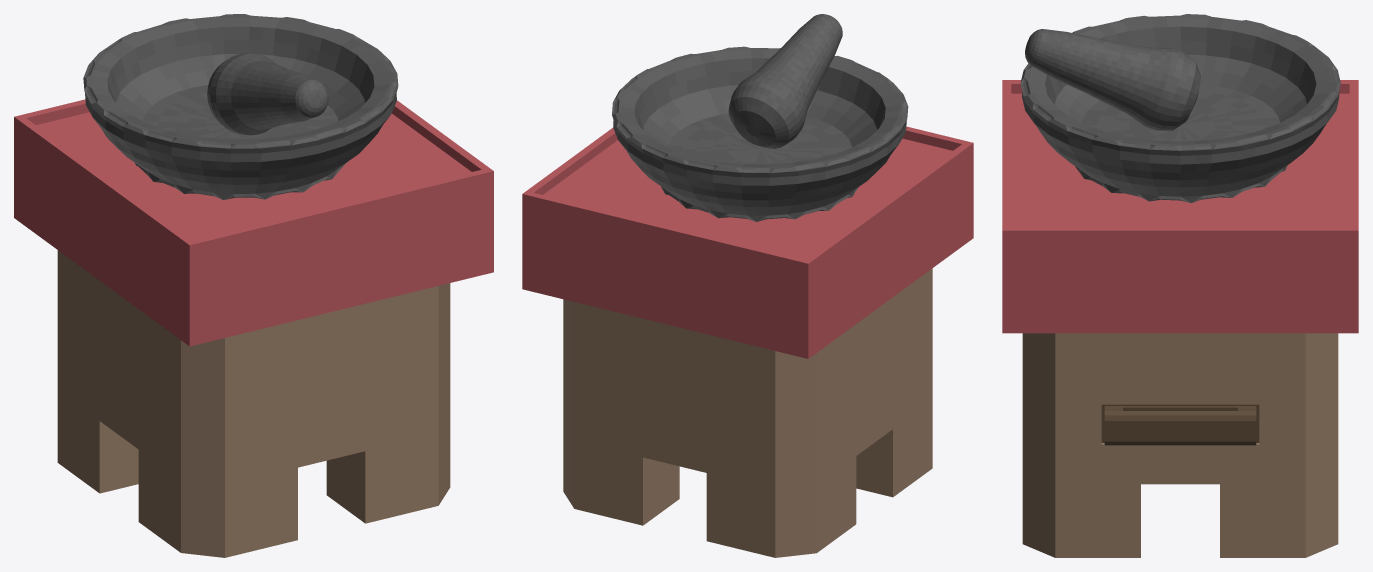
File: Pounding_Station_Interacted.fbx
3 views of the same model, side by side, from view 1: azimuth 30°, elevation 25°; view 2: azimuth 150°, elevation 25°; view 3: azimuth 270°, elevation 25° (orthographic). The views are drawn at different scales.
Visible parts, largest first — view 1: Table, Pounded, Cylinder; view 2: Table, Pounded, Cylinder; view 3: Table, Pounded, Cylinder.
Boxes of the visible parts, x1,y1,x2,y2 form: Table: (14,99,493,557); Pounded: (83,14,398,199); Cylinder: (207,53,328,135); Table: (522,126,973,557); Pounded: (612,46,908,221); Cylinder: (728,14,842,148); Table: (1002,80,1358,557); Pounded: (1020,14,1340,203); Cylinder: (1025,29,1200,130).
Size of the model in its own units: 199 by 279 by 199.
